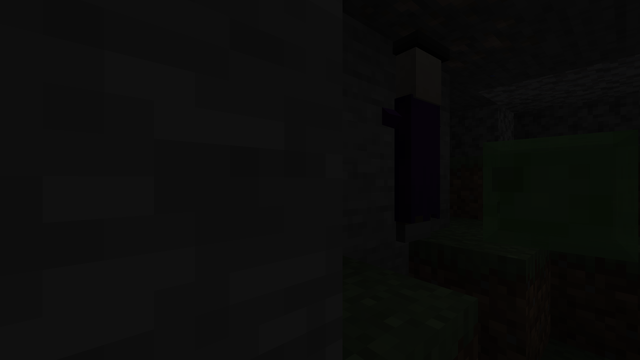slimes: (475, 123, 630, 263)
sorcieres: (392, 33, 449, 247)
